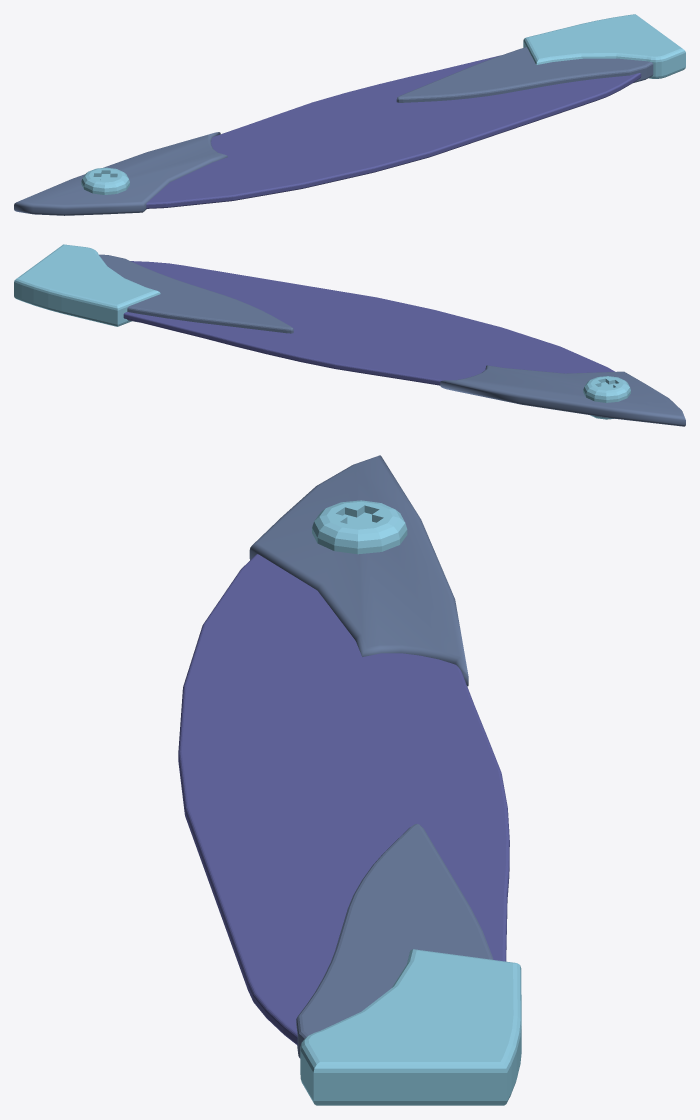
File: EWingL.fbx
3 views of the same model, one above another, from view 1: azimuth 30°, elevation 25°; view 2: azimuth 150°, elevation 25°; view 3: azimuth 270°, elevation 25° (orthographic). The views are drawn at different scales.
Visible parts, largest first — view 1: EWing.L; view 2: EWing.L; view 3: EWing.L.
Boxes of the visible parts, box(x1,y1,x2,y2) form: EWing.L: box(14, 14, 685, 215); EWing.L: box(14, 244, 685, 426); EWing.L: box(178, 455, 521, 1105).
Size of the model in its own units: 954 by 40.22 by 222.
